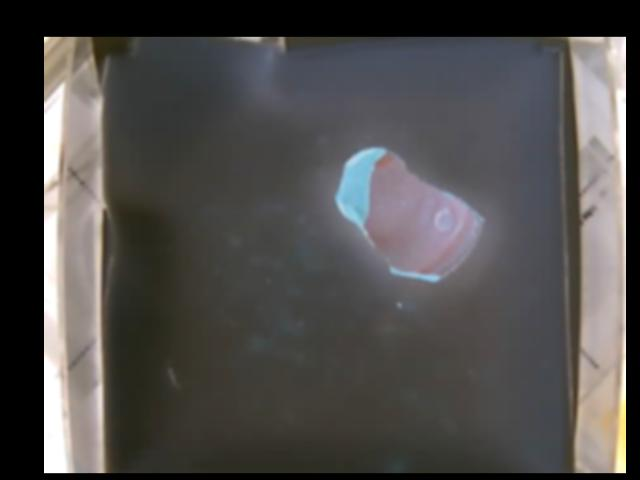China: (335, 146, 484, 281)
